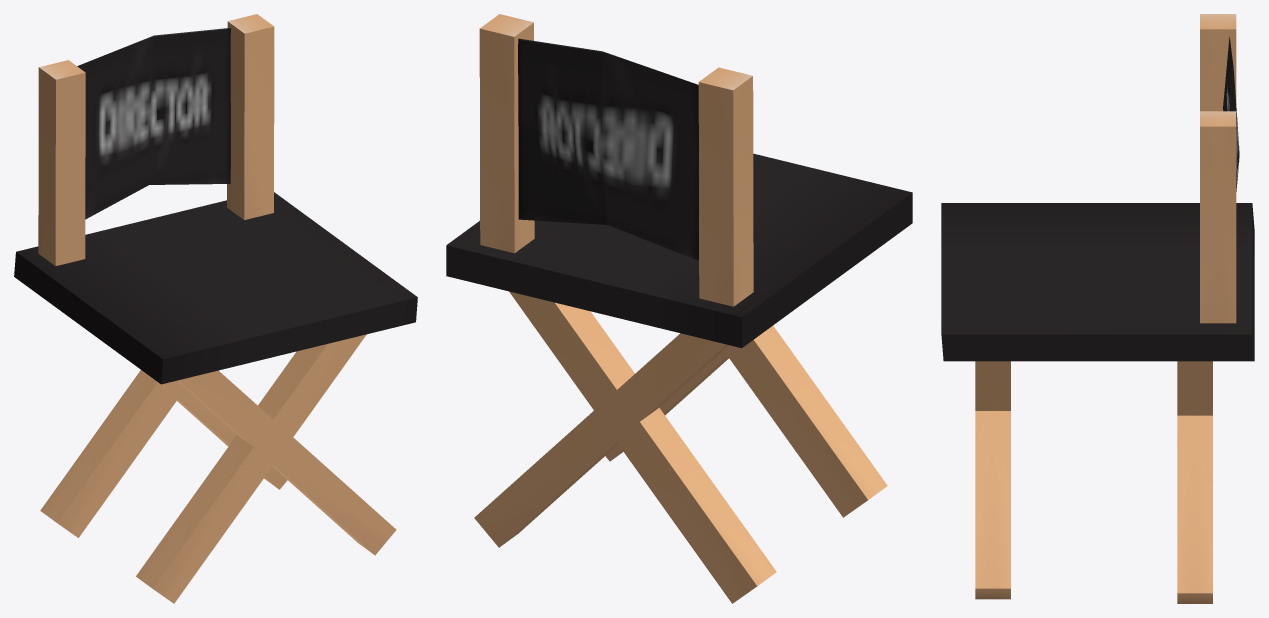
Rendered from Chair.fbx.
The picture shows the model from 3 angles, left to right: view 1: azimuth 30°, elevation 25°; view 2: azimuth 150°, elevation 25°; view 3: azimuth 270°, elevation 25°; orthographic projection. The views are drawn at different scales.
Parts seen in each view (by area): view 1: Cube; view 2: Cube; view 3: Cube.
Part boxes in pixels (x1=…): Cube: x1=14, y1=14, x2=417, y2=603; Cube: x1=446, y1=14, x2=912, y2=603; Cube: x1=941, y1=14, x2=1254, y2=603.
Bounding box in the file's own units: 124 × 212 × 124.
Materials: 1 (1 with a texture image).
